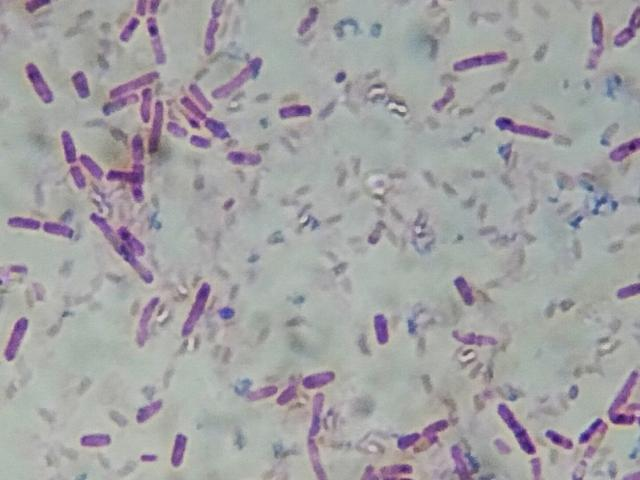E. coli: (210, 52, 269, 104), (494, 400, 535, 461), (180, 281, 215, 339), (3, 312, 35, 367), (499, 115, 555, 145), (22, 60, 54, 112), (446, 271, 481, 317), (452, 49, 509, 77), (398, 415, 446, 448), (136, 291, 162, 351), (147, 16, 171, 74), (445, 444, 480, 480), (168, 428, 195, 472), (612, 130, 640, 171), (70, 64, 97, 106), (363, 458, 414, 480), (109, 226, 143, 258), (205, 0, 225, 53), (105, 72, 160, 91), (590, 8, 606, 72), (611, 364, 640, 399), (43, 215, 77, 244), (368, 309, 392, 350), (221, 147, 262, 171), (302, 370, 339, 396), (123, 257, 158, 284), (275, 99, 316, 122), (577, 411, 606, 443), (544, 422, 572, 455), (615, 273, 640, 308), (4, 210, 39, 235), (80, 428, 119, 450), (135, 397, 164, 426), (428, 87, 456, 116), (151, 100, 166, 154), (307, 441, 328, 479), (309, 395, 329, 434), (204, 115, 232, 141), (132, 164, 150, 202), (82, 154, 108, 179), (55, 130, 79, 157), (70, 164, 93, 191), (101, 100, 139, 116), (142, 86, 157, 126), (180, 99, 204, 122), (105, 165, 133, 184), (279, 387, 305, 407), (121, 15, 140, 42), (190, 82, 211, 106), (247, 384, 278, 400), (188, 136, 213, 155), (130, 135, 146, 164), (611, 411, 636, 429), (168, 120, 188, 141), (87, 212, 105, 235), (141, 451, 161, 467), (147, 0, 164, 16), (134, 0, 145, 22)
